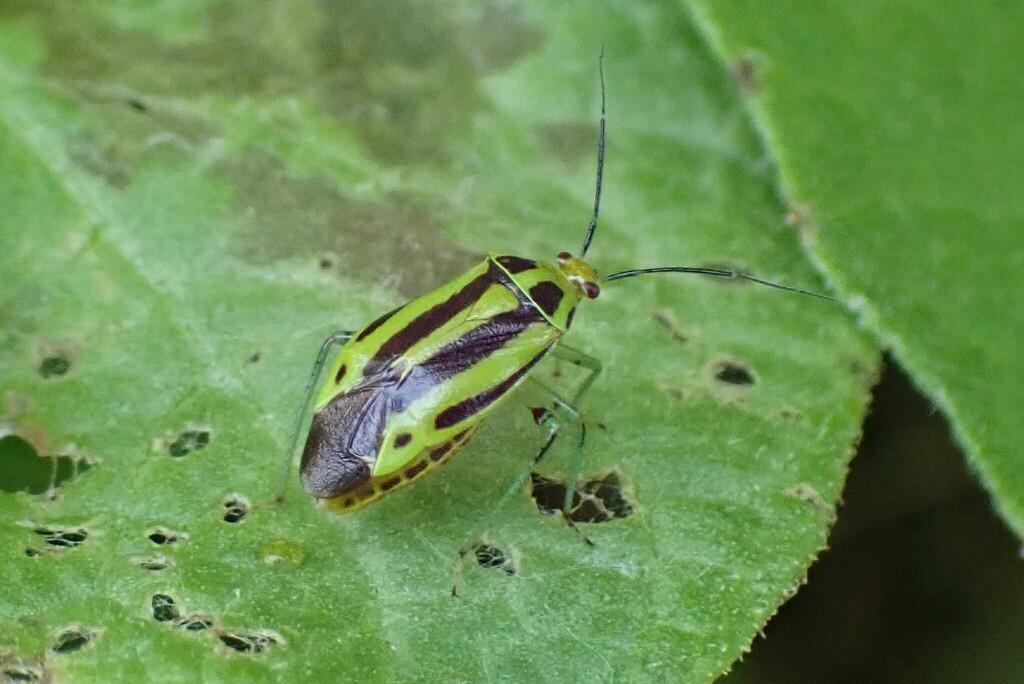plant_bugs: (224, 19, 850, 625)
